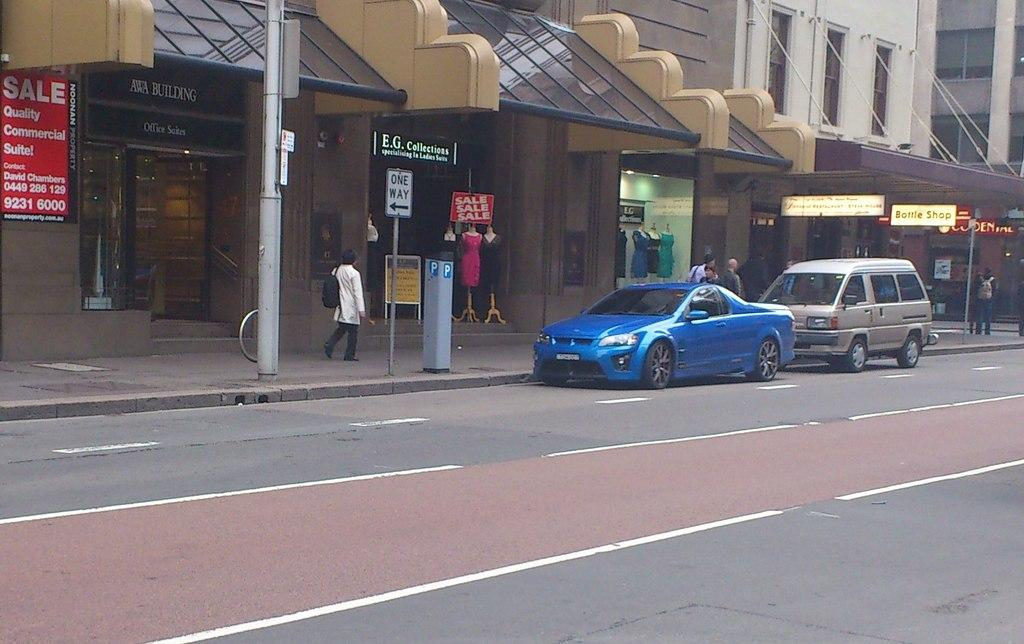vehicle: (531, 282, 795, 389), (756, 259, 938, 372)
